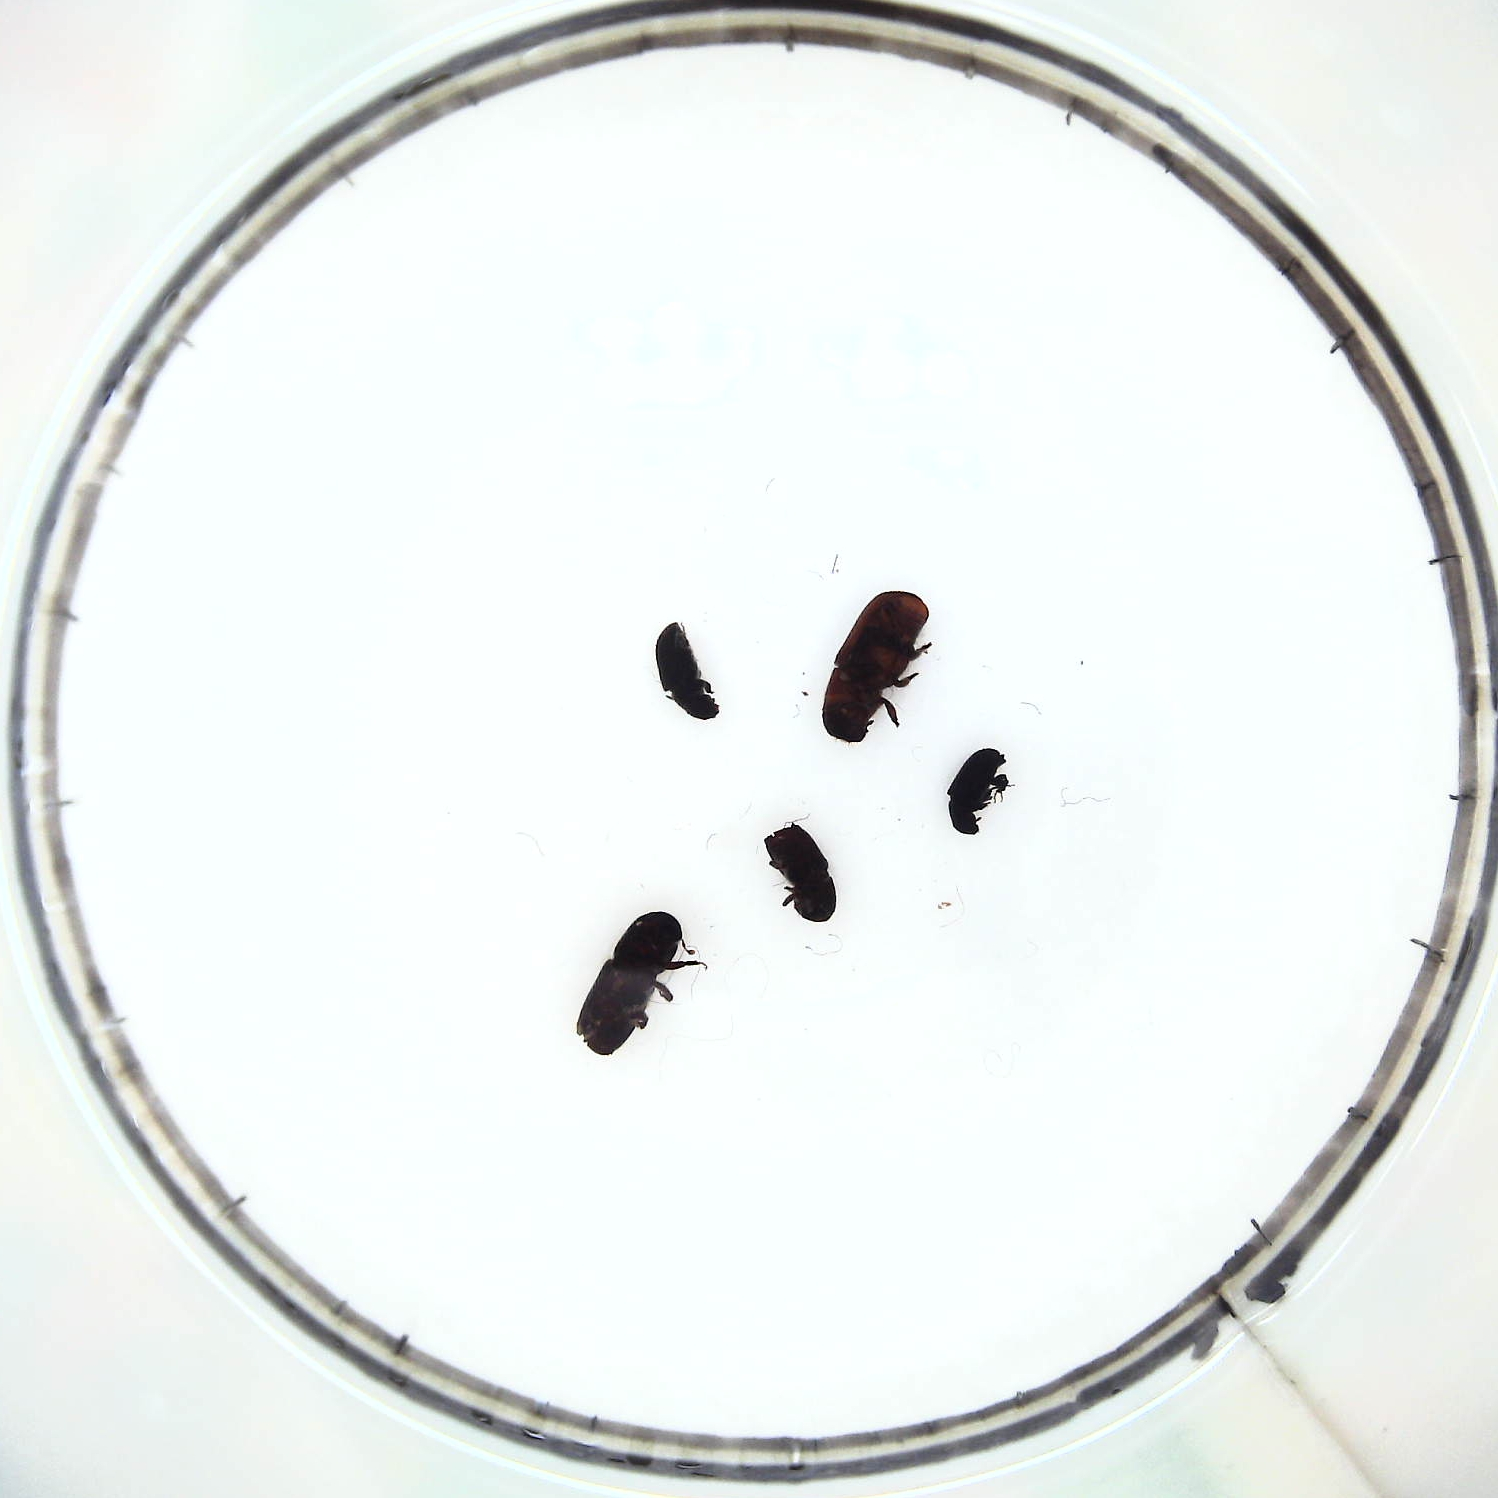Boerner: (580, 911, 689, 1054)
Leconte: (824, 588, 931, 741)
Linnaeus: (761, 823, 840, 920)
armandi: (654, 620, 720, 723)
coleoptera: (951, 744, 1010, 838)
